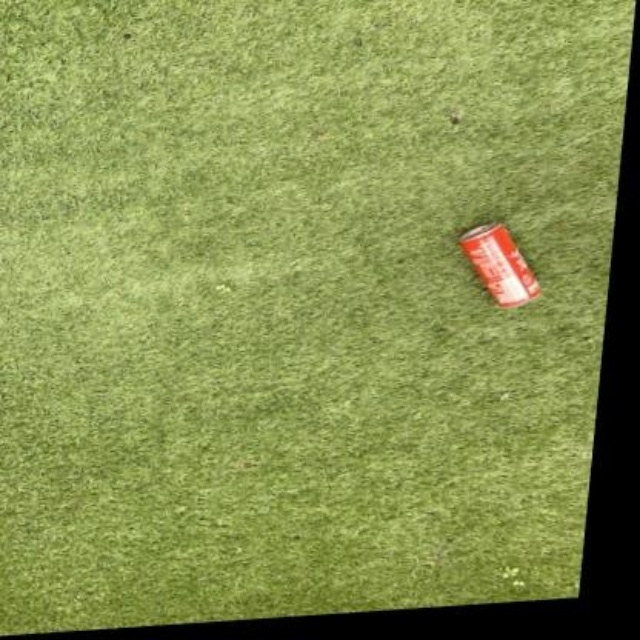trash: (458, 223, 540, 306)
